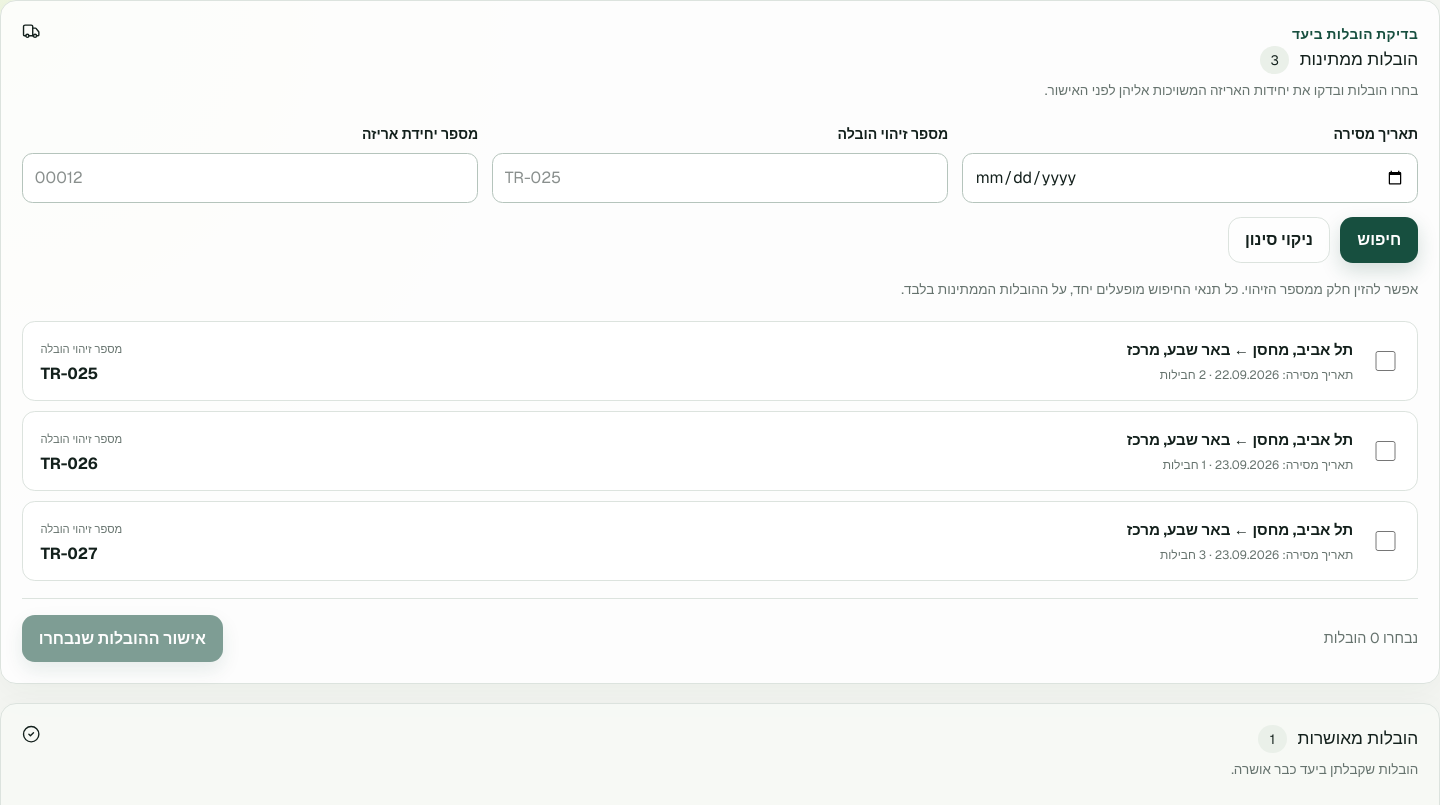
Scenario: delivery receiving › keeps a failed confirmation open and allows retry
The image size is (1440, 805).
Click the checkbox named "בחירת הובלה TR-025: תל אביב, מחסן ← באר שבע, מרכז" at (1386, 361), box x1=1375 y1=351 x2=1396 y2=371
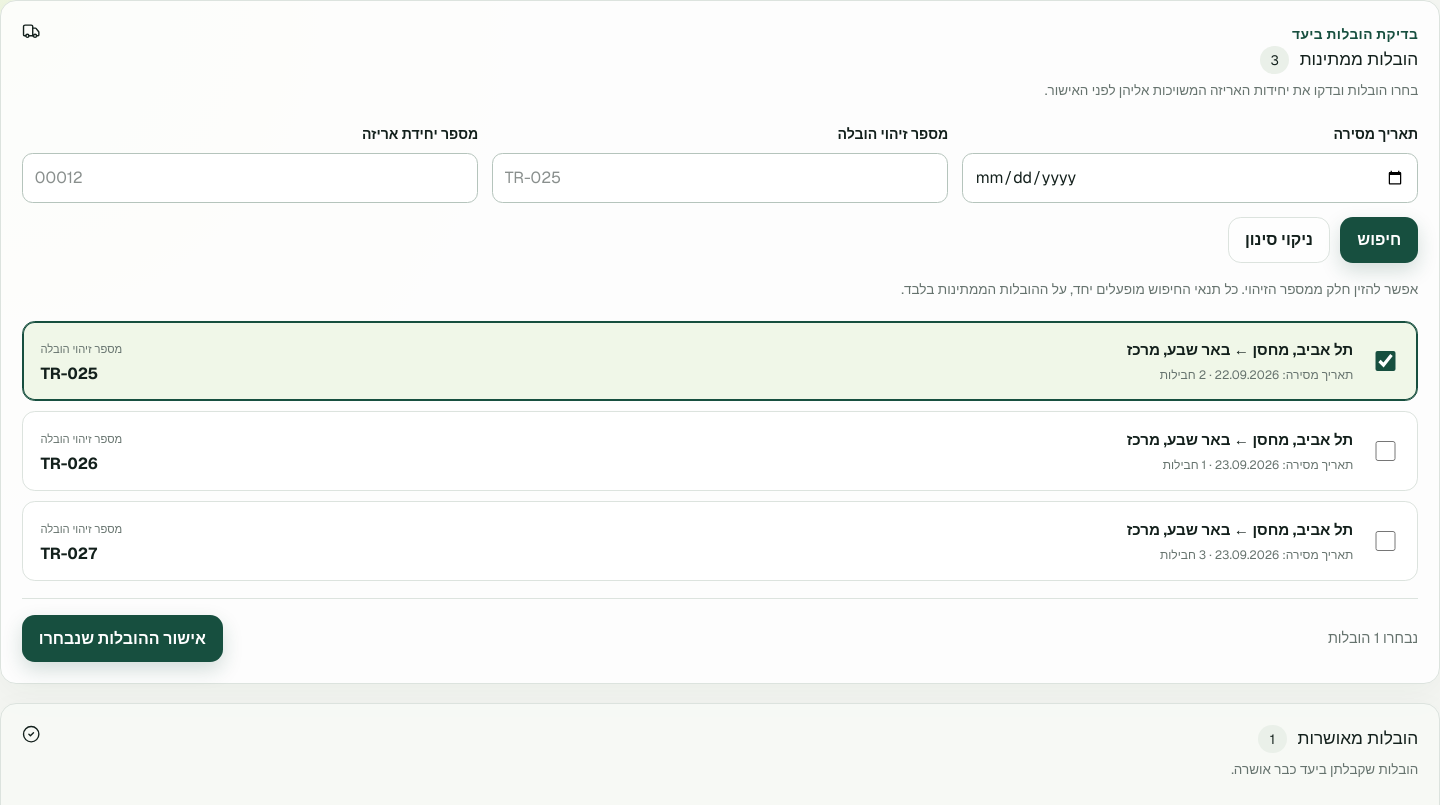
Click the button "אישור ההובלות שנבחרו" at (122, 639), box x1=22 y1=615 x2=223 y2=662
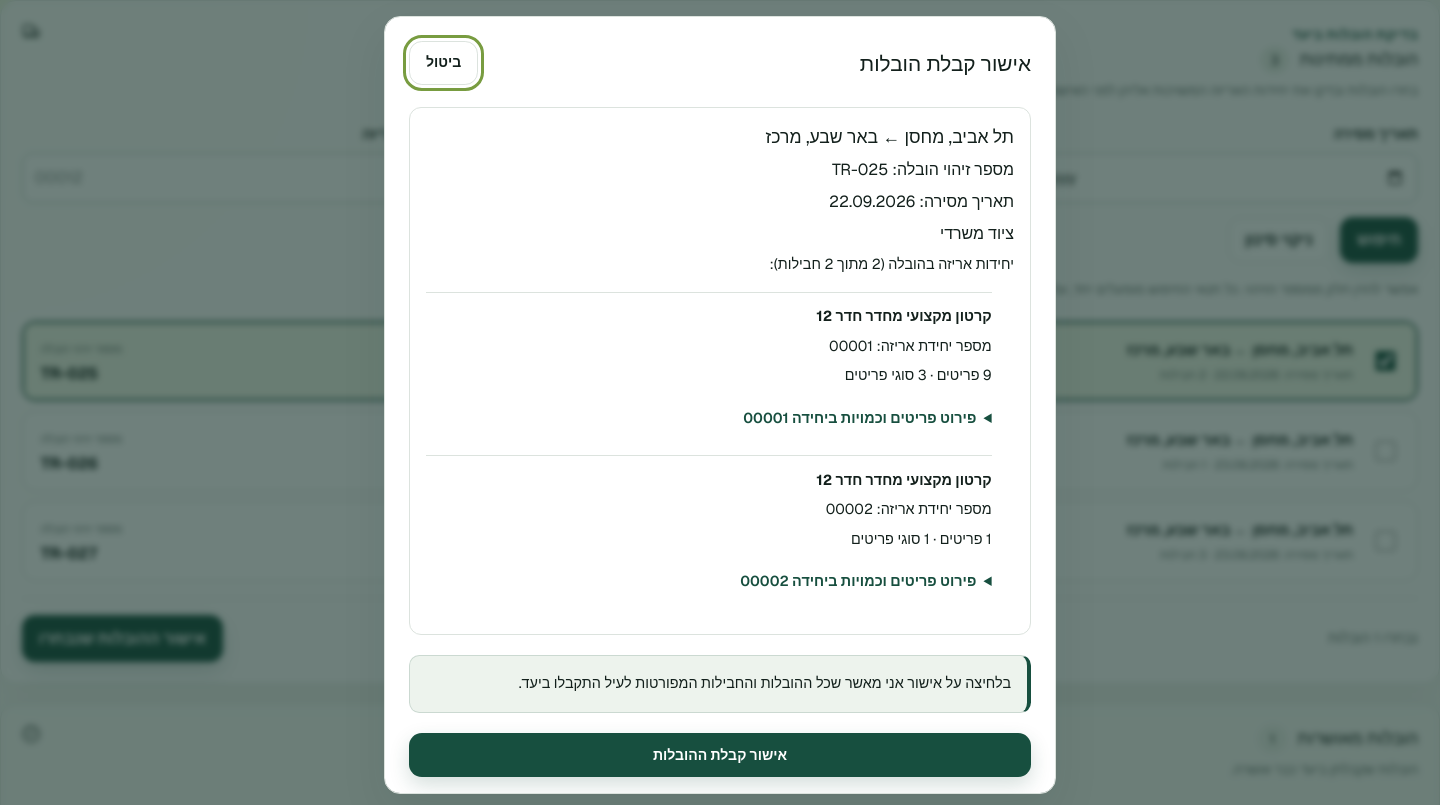
Click the button "אישור קבלת ההובלות" at (720, 755), box x1=409 y1=733 x2=1031 y2=777
(page scrolled)
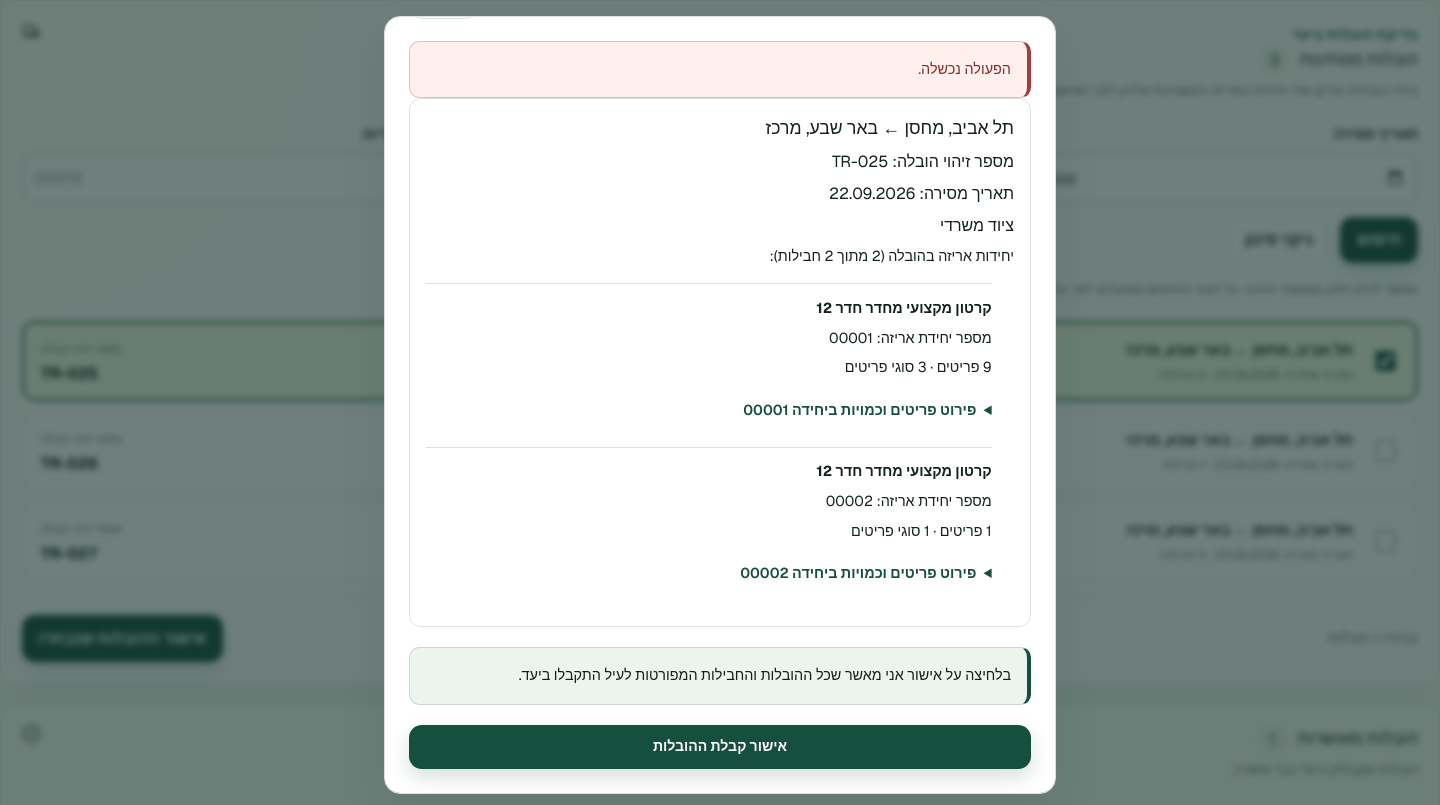
Now the message reads "הפעולה נכשלה.", box x1=918 y1=60 x2=1011 y2=78
Click the button "אישור קבלת ההובלות" at (720, 747), box x1=409 y1=725 x2=1031 y2=769
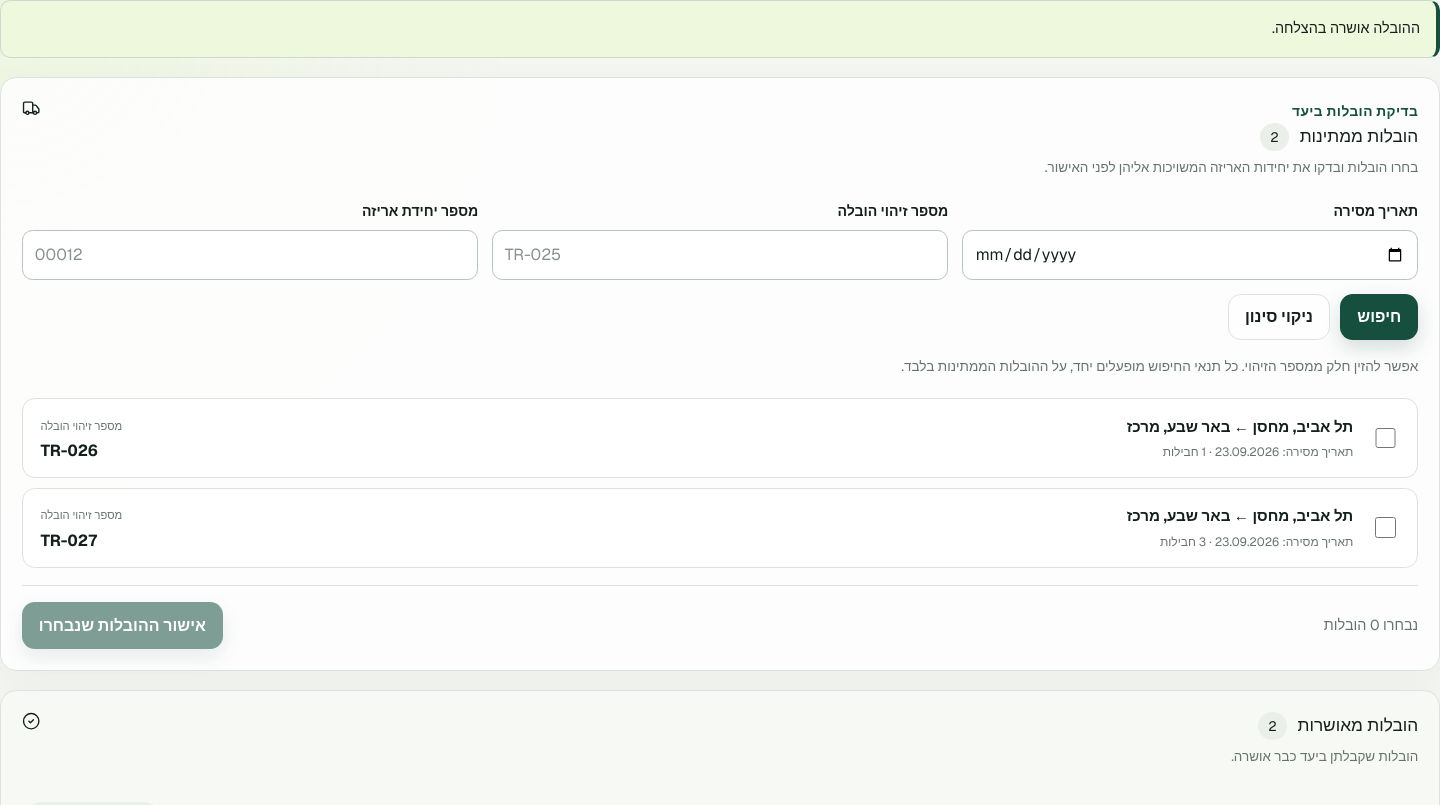
Now the text "ההובלה אושרה בהצלחה." is shown, box x1=0 y1=0 x2=1439 y2=58
